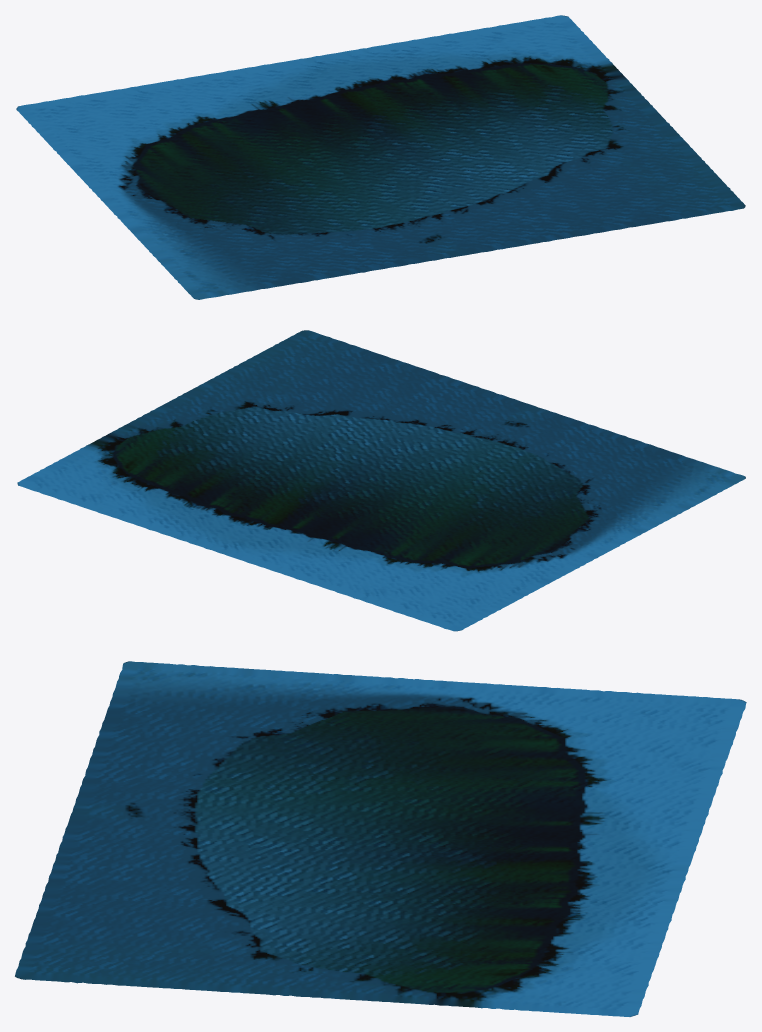
Rendered from lake.fbx.
3 renders of one model, top to bottom at view 1: azimuth 30°, elevation 25°; view 2: azimuth 150°, elevation 25°; view 3: azimuth 270°, elevation 25°, orthographic. The views are drawn at different scales.
Parts seen in each view (by area): view 1: Plane.001; view 2: Plane.001; view 3: Plane.001.
Part boxes in pixels (x1=…): Plane.001: x1=16, y1=15, x2=745, y2=299; Plane.001: x1=17, y1=330, x2=745, y2=631; Plane.001: x1=15, y1=661, x2=746, y2=1016.
Bounding box in the file's own units: 6318 × 5.46 × 5496.
